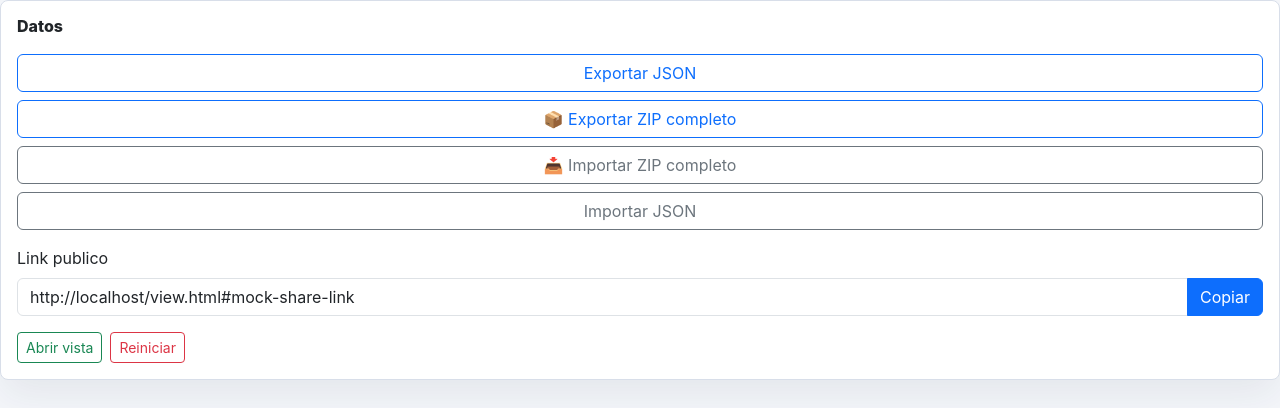
Scenario: DataTools Component › Export ZIP › should disable button while exporting
Step 1. Click the button "📦 Exportar ZIP completo" → [640, 119], box x1=17 y1=100 x2=1263 y2=138
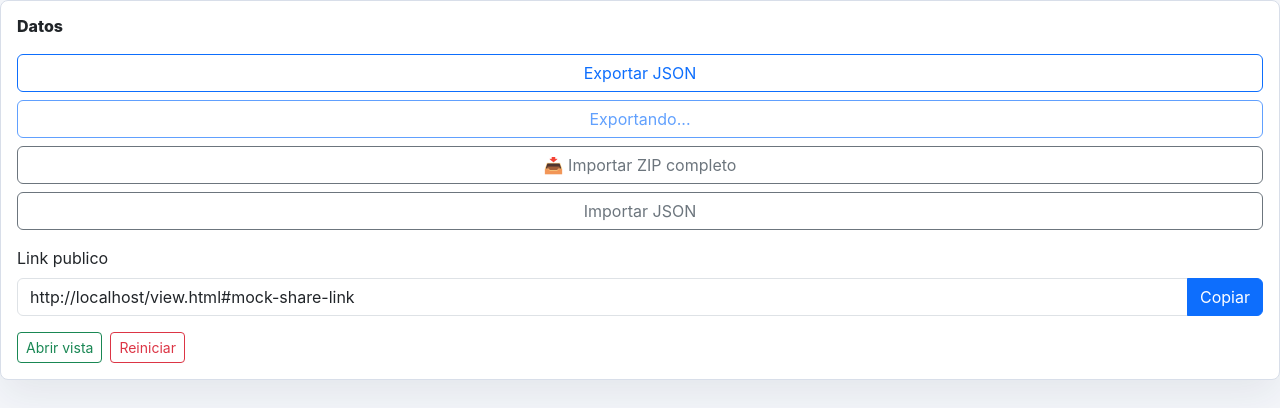
Expected: the button "Exportando..." is disabled, x1=17 y1=100 x2=1263 y2=138
